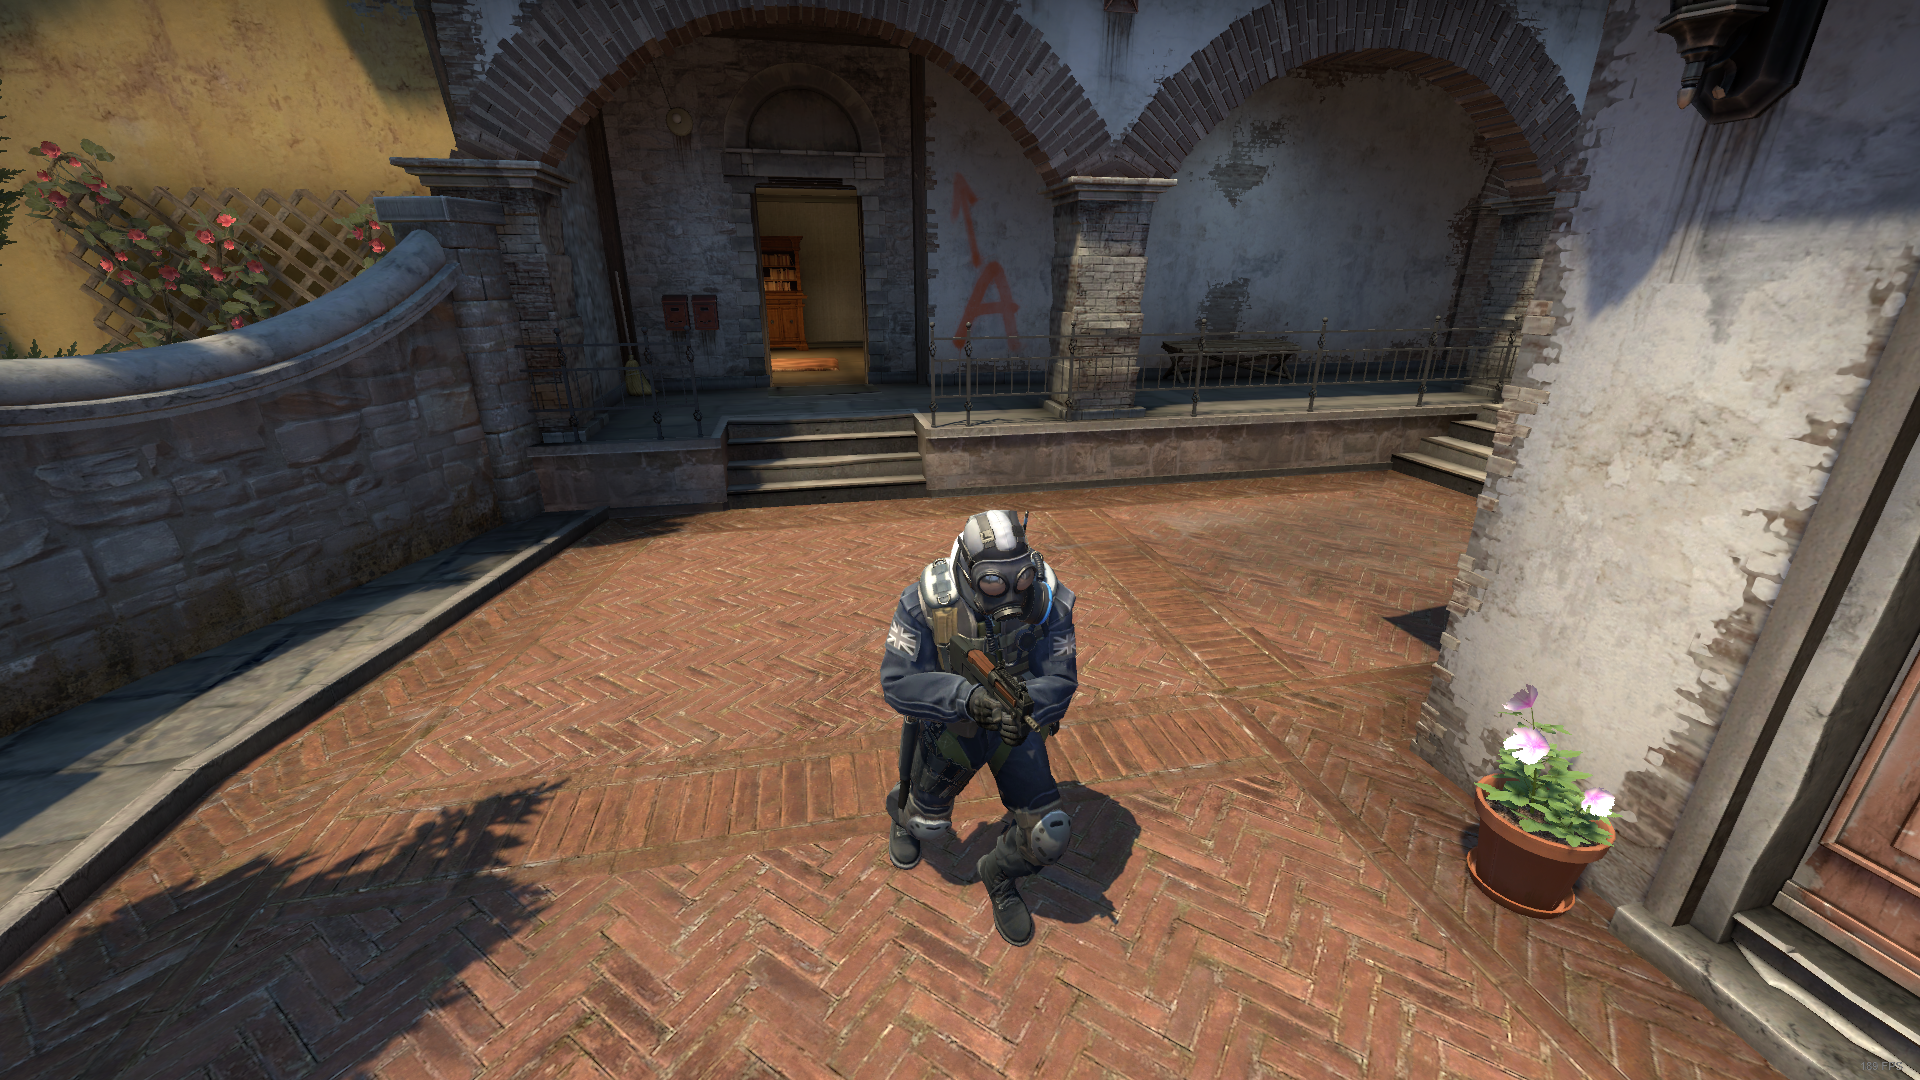ct: (870, 501, 1087, 967)
